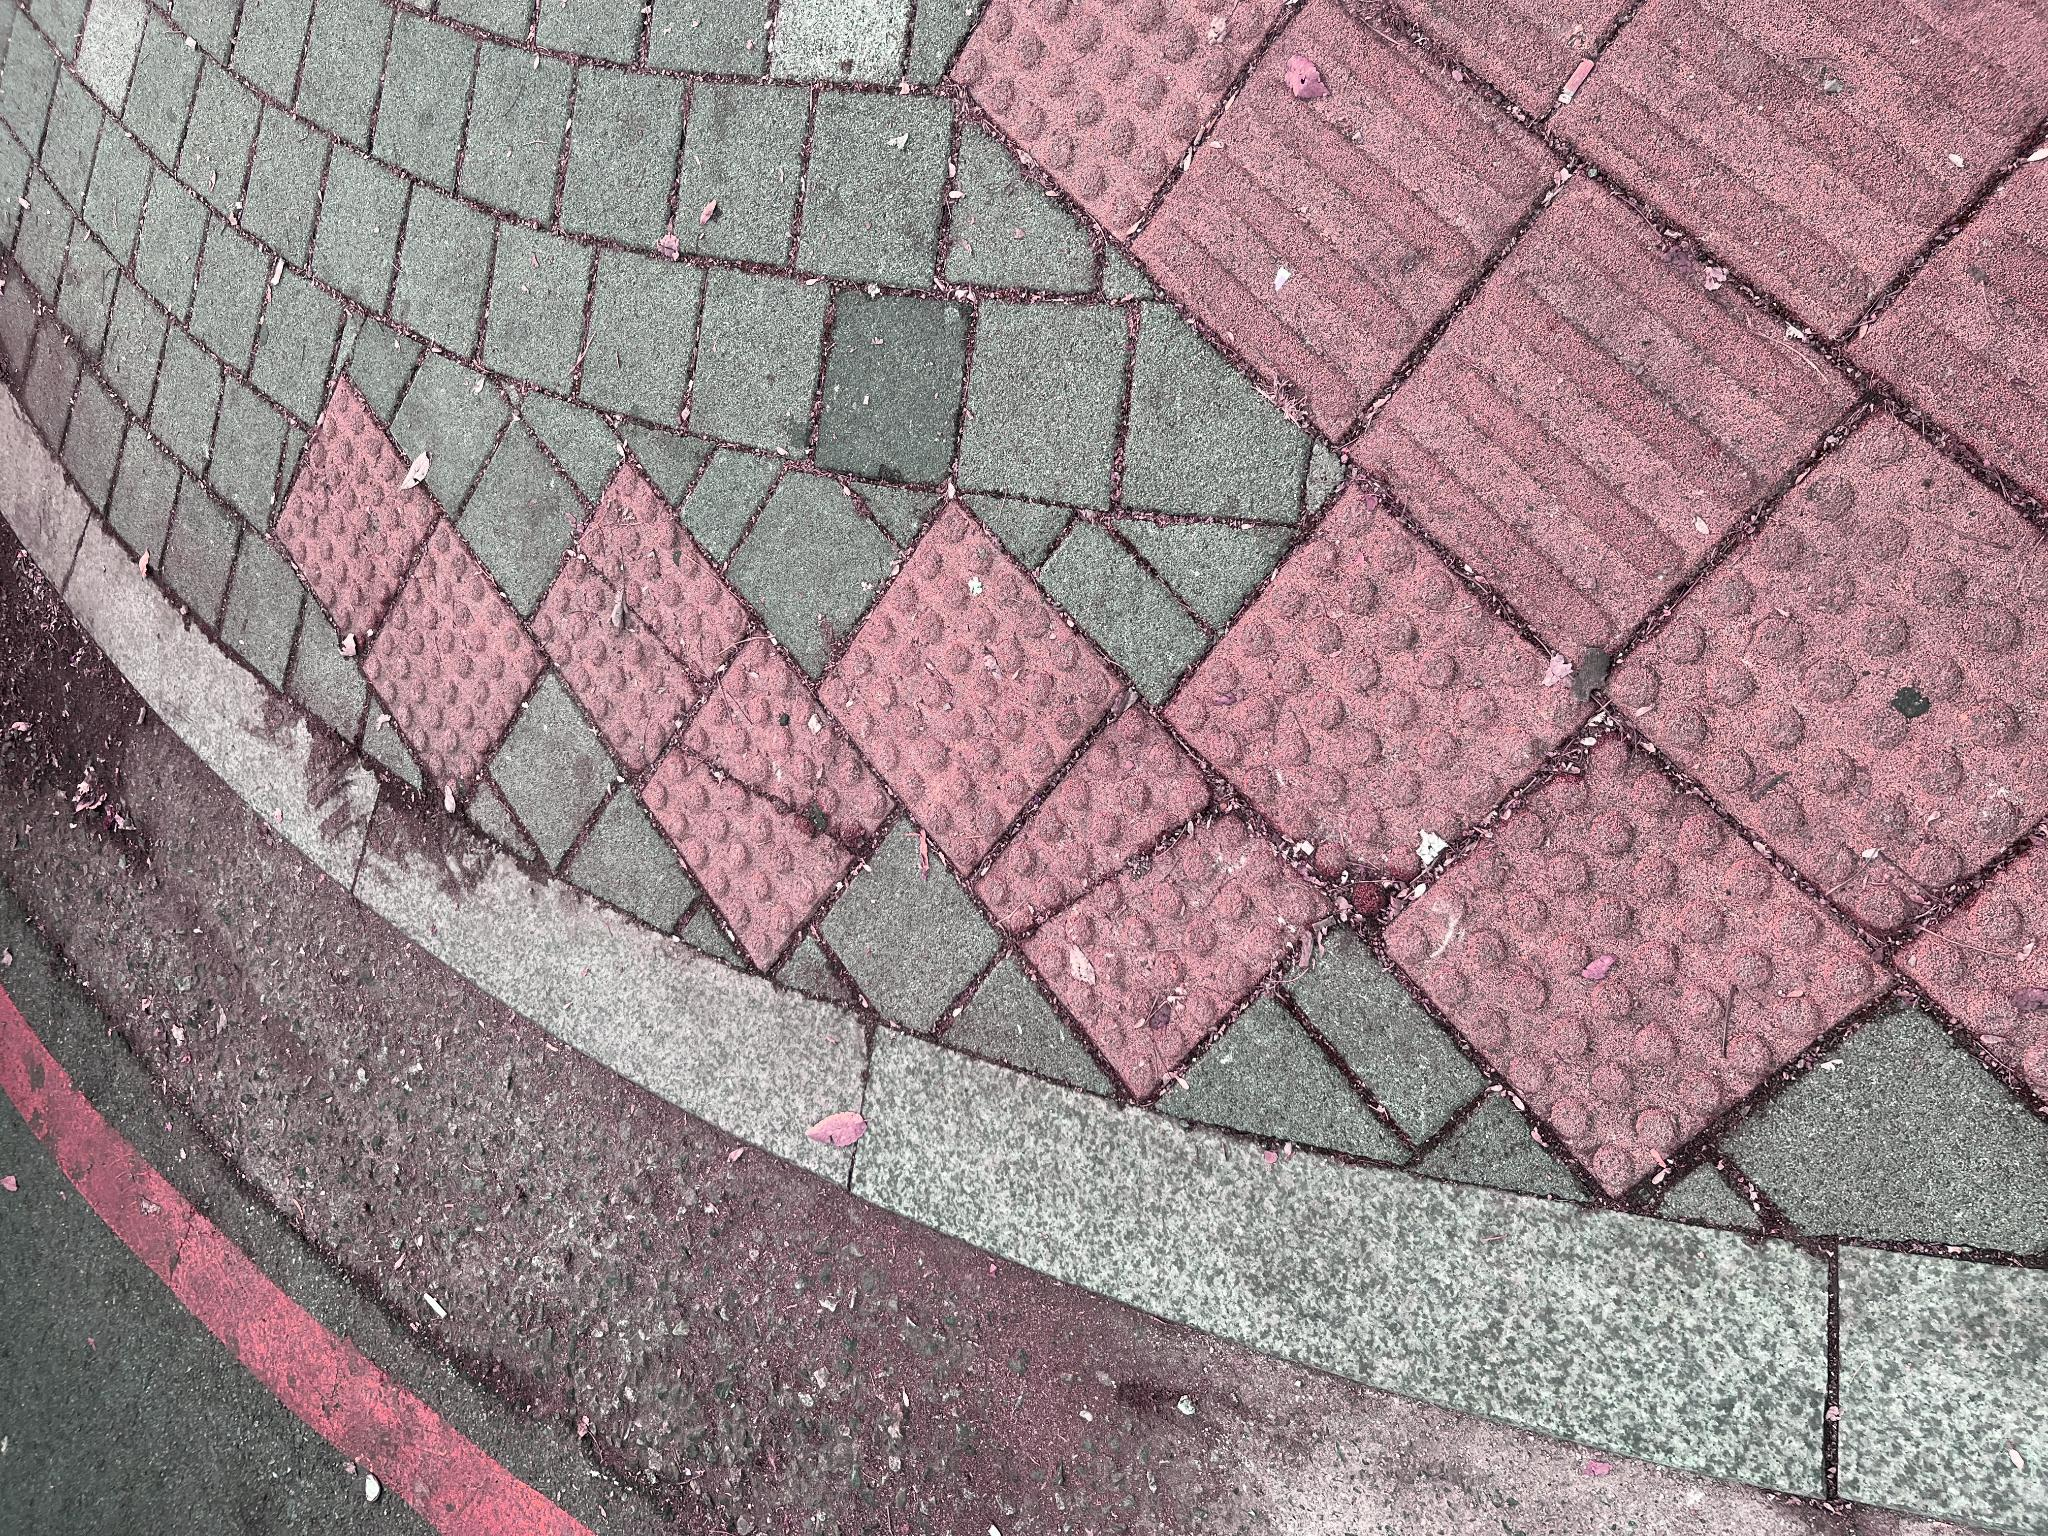Stop block broken: (439, 978, 835, 1325), (566, 644, 905, 891), (755, 532, 1072, 752)
Stop block normal: (610, 1167, 1051, 1536), (660, 818, 1032, 1117), (727, 365, 1018, 542), (427, 1379, 747, 1536)
Straight block normal: (1100, 1133, 1535, 1536), (908, 1346, 1313, 1536)
